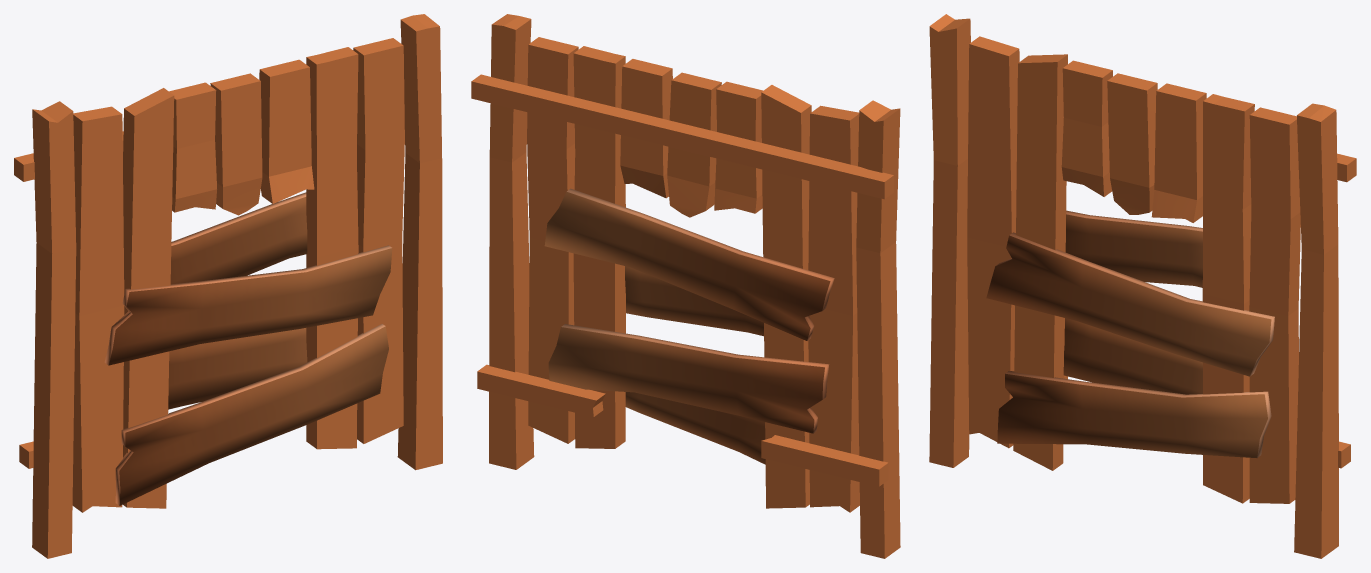
Rendered from WoodFence_Repaired.gltf.
3 views of the same model, side by side, from view 1: azimuth 30°, elevation 25°; view 2: azimuth 150°, elevation 25°; view 3: azimuth 330°, elevation 25° (orthographic).
Parts seen in each view (by area): view 1: WoodFence4, Planks.002, Planks.003, Planks.001, Planks; view 2: WoodFence4, Planks.001, Planks, Planks.003, Planks.002; view 3: WoodFence4, Planks.003, Planks.002, Planks.001, Planks.
Part boxes in pixels (x1,y1,x2,y2): WoodFence4: [14, 14, 442, 558]; Planks.002: [115, 324, 388, 505]; Planks.003: [104, 245, 392, 365]; Planks.001: [170, 192, 307, 284]; Planks: [168, 328, 307, 409]; WoodFence4: [471, 14, 900, 558]; Planks.001: [544, 188, 834, 340]; Planks: [548, 324, 829, 433]; Planks.003: [625, 266, 763, 336]; Planks.002: [625, 392, 765, 464]; WoodFence4: [929, 14, 1356, 558]; Planks.003: [986, 232, 1274, 376]; Planks.002: [997, 371, 1271, 457]; Planks.001: [1065, 210, 1202, 287]; Planks: [1063, 318, 1202, 394].
Bounding box in the file's own units: 2 × 2.04 × 0.2248.
5 materials, 4 textured.
